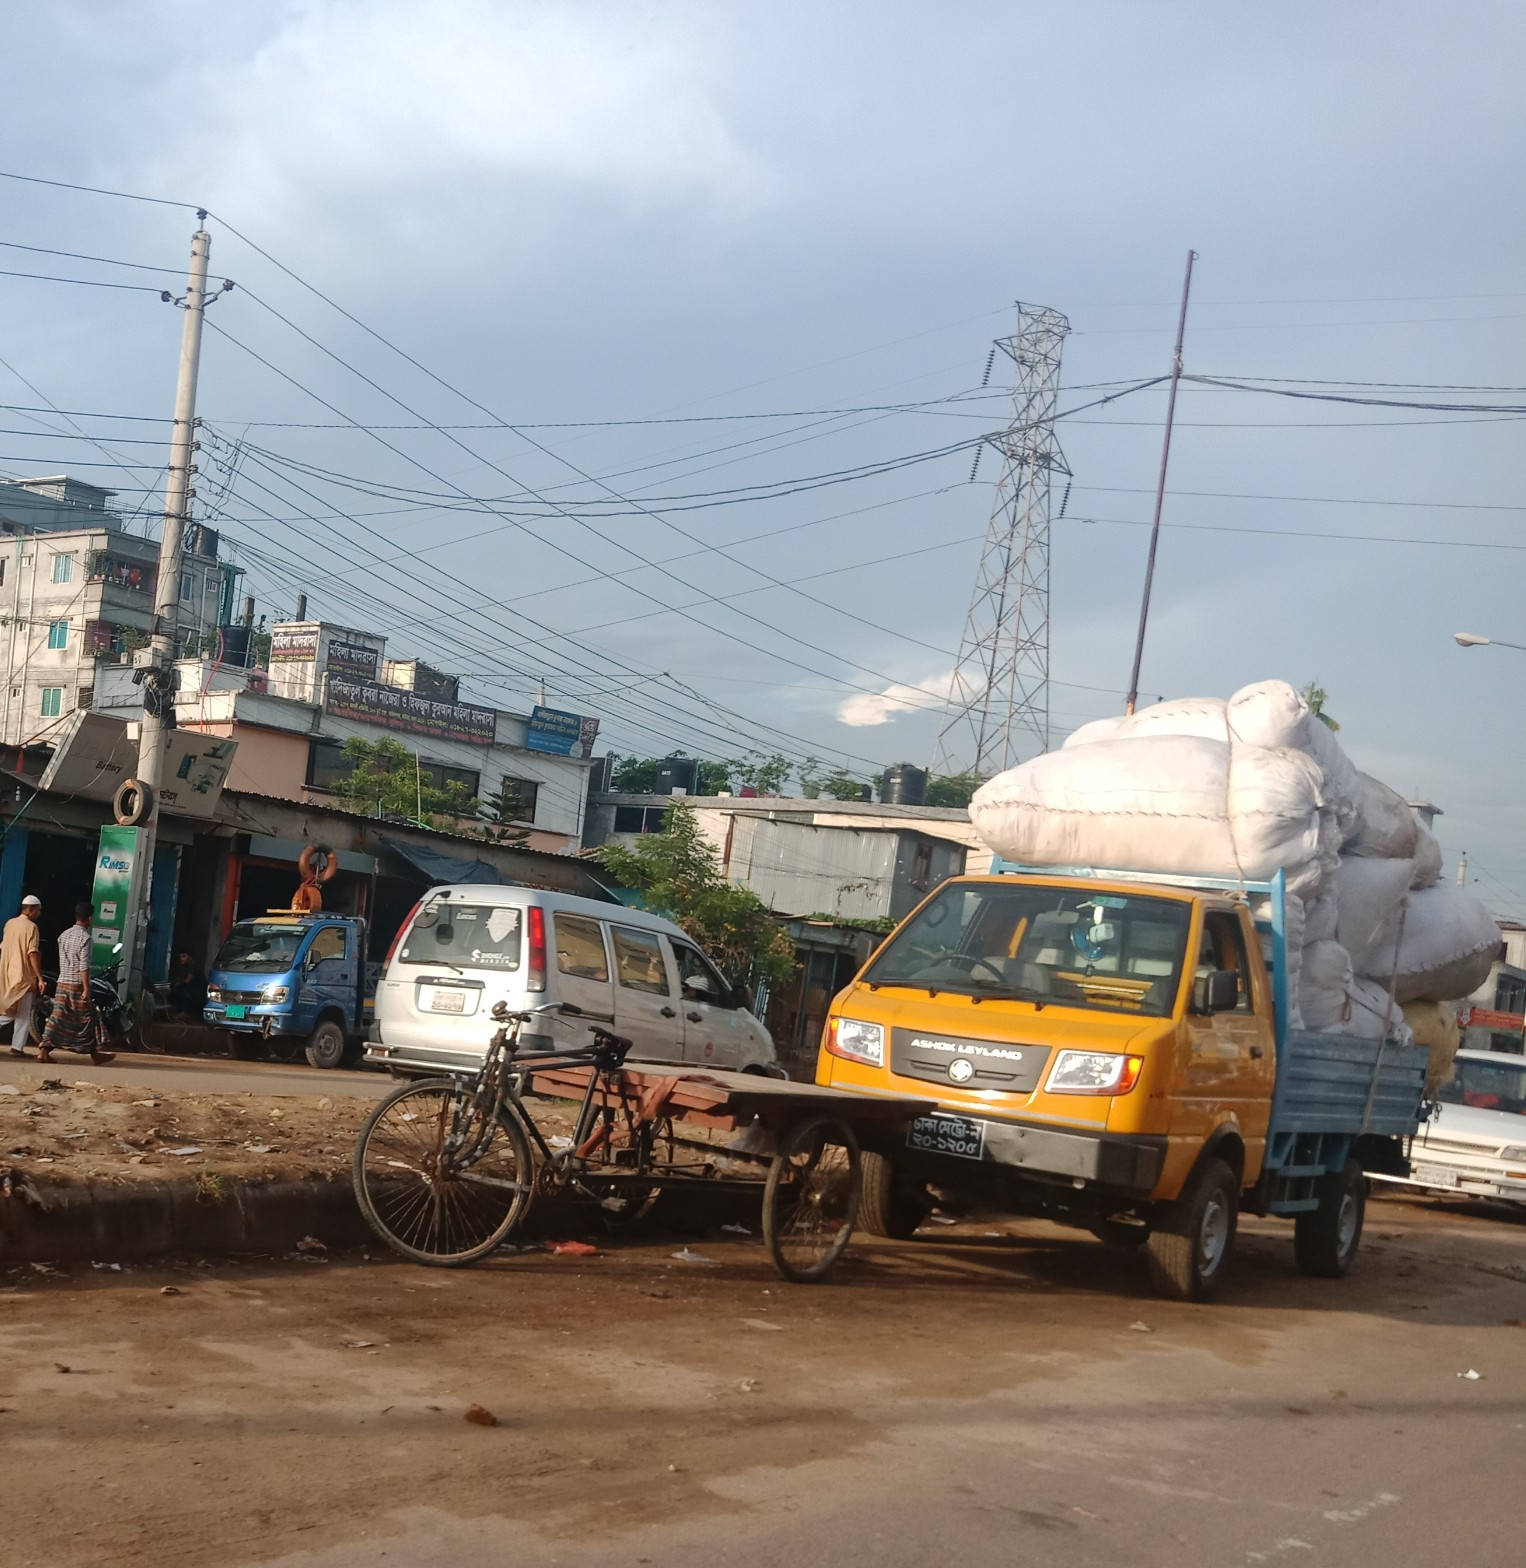car: (354, 878, 769, 1119), (1317, 1022, 1526, 1226)
truck: (797, 850, 1471, 1299), (195, 899, 419, 1065)
van: (337, 993, 939, 1295)
